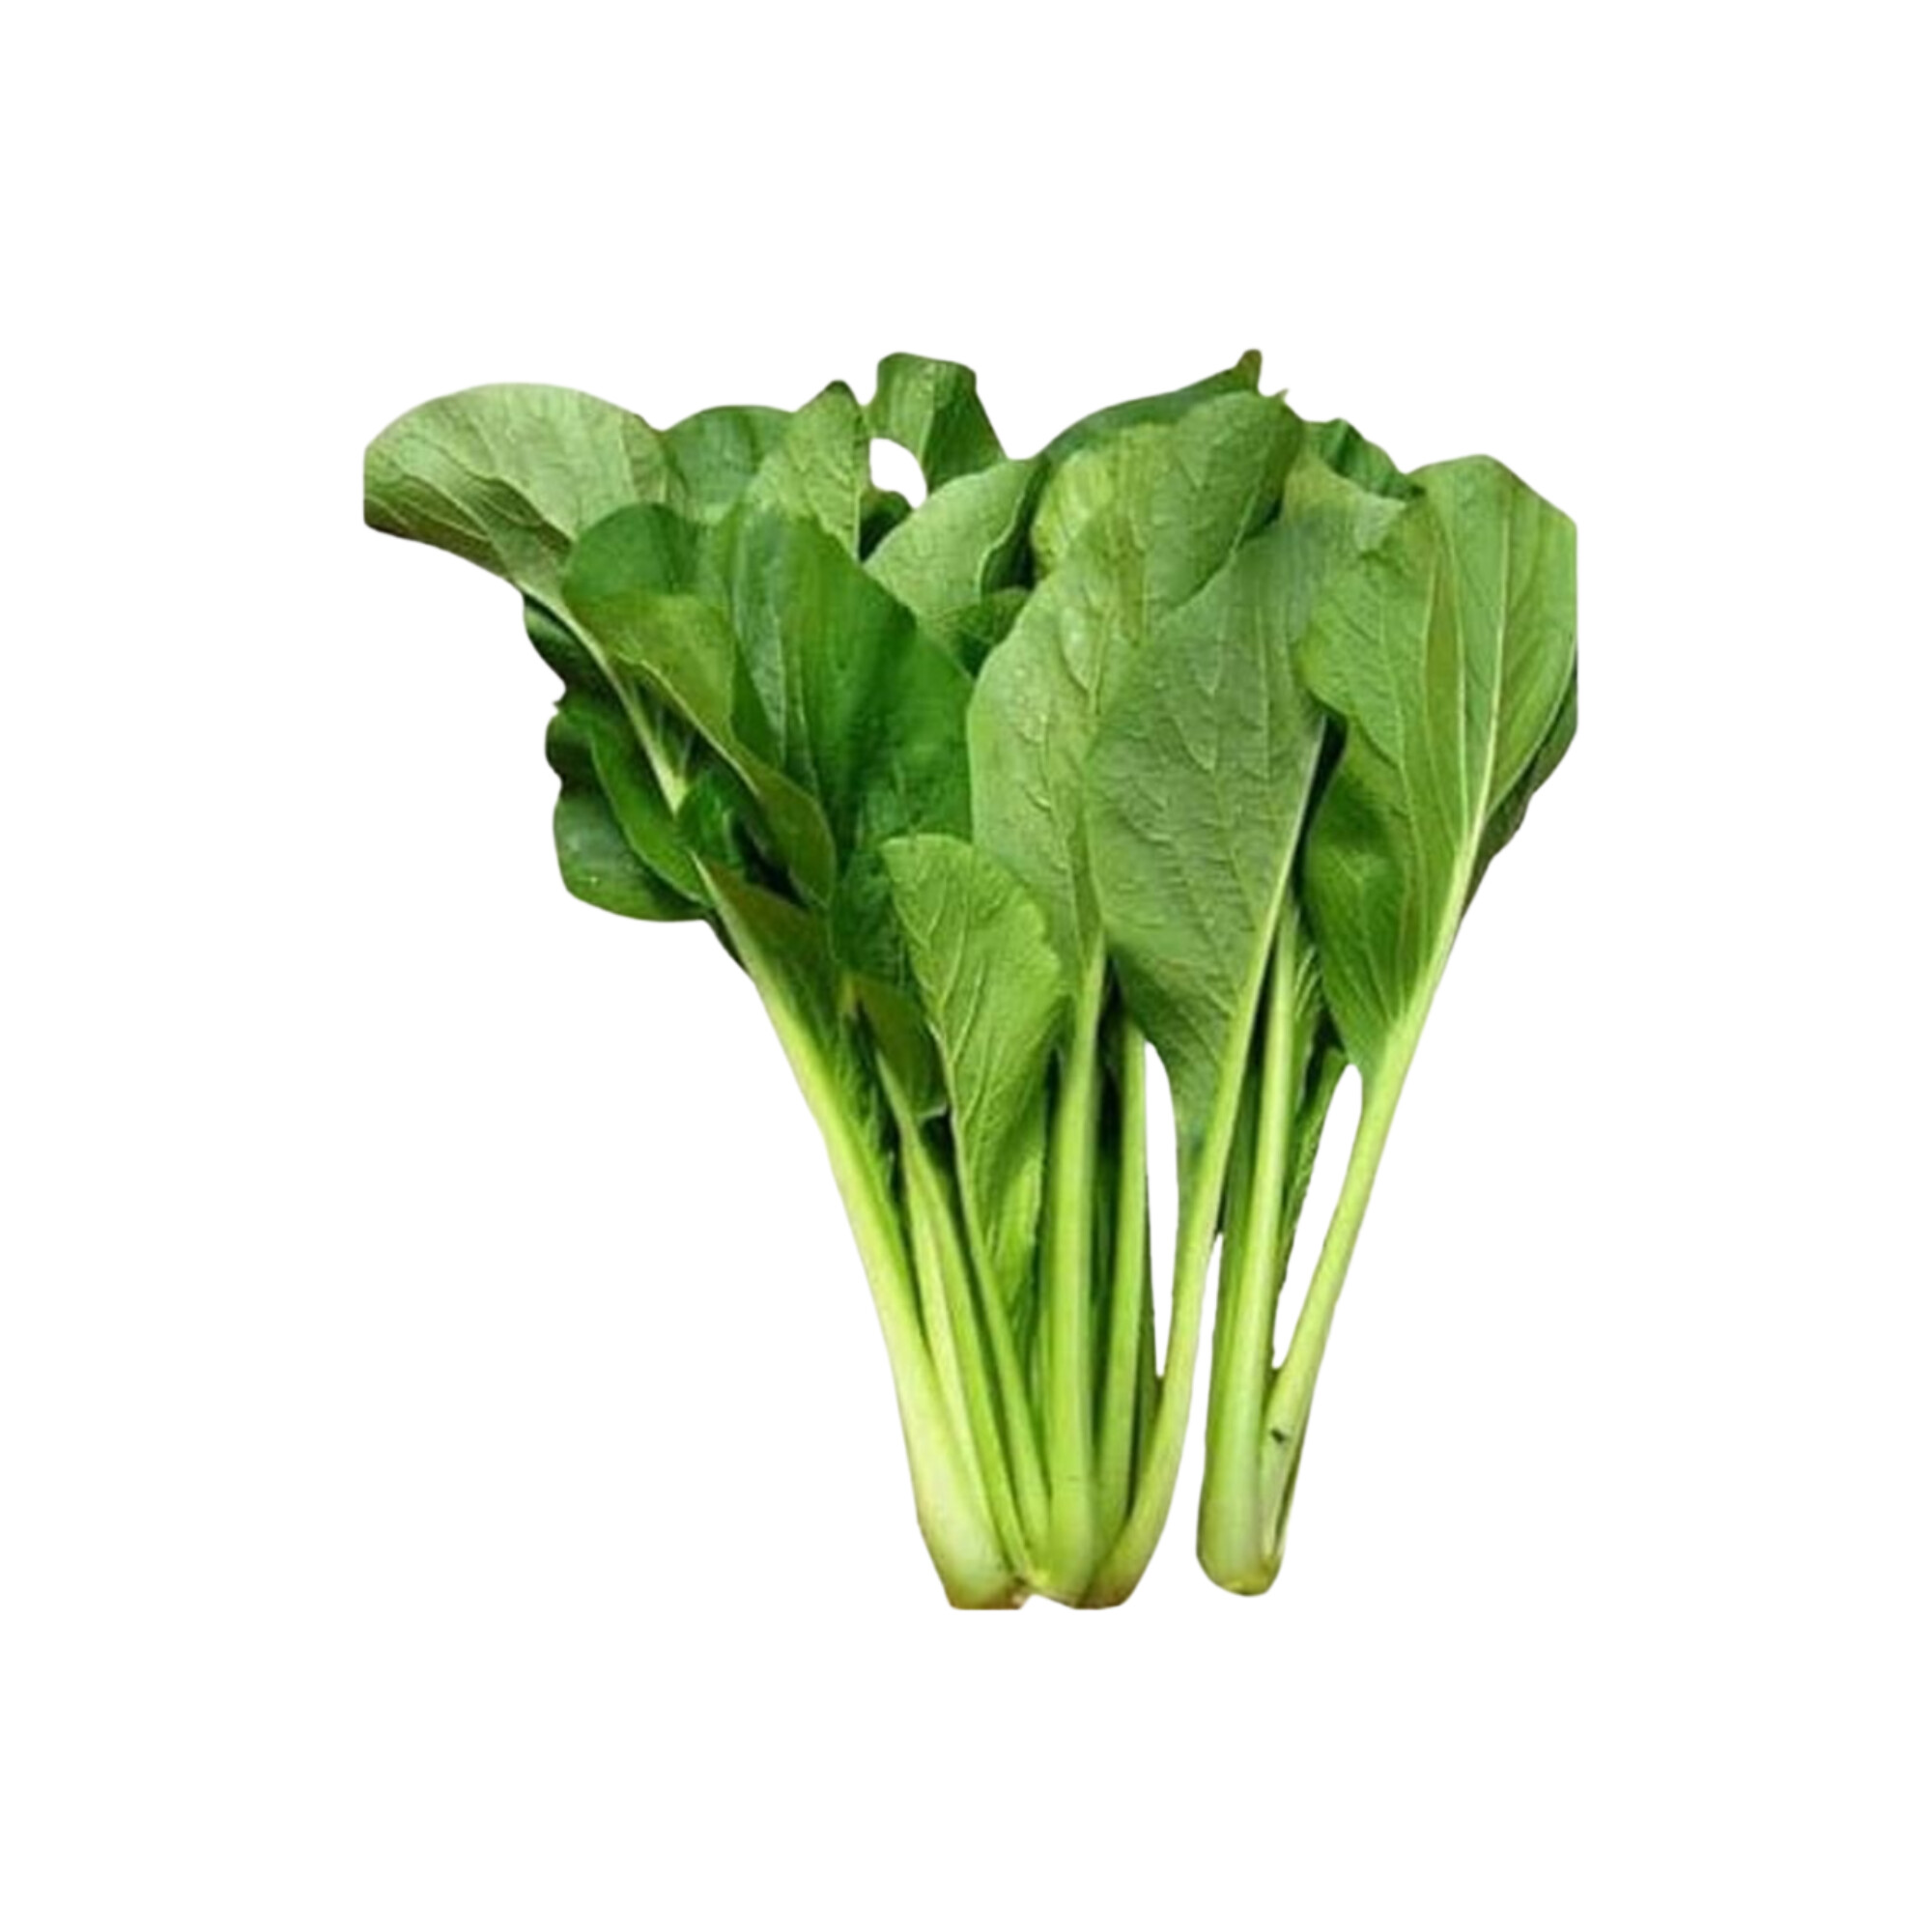Sawi: (333, 241, 1707, 1633)
